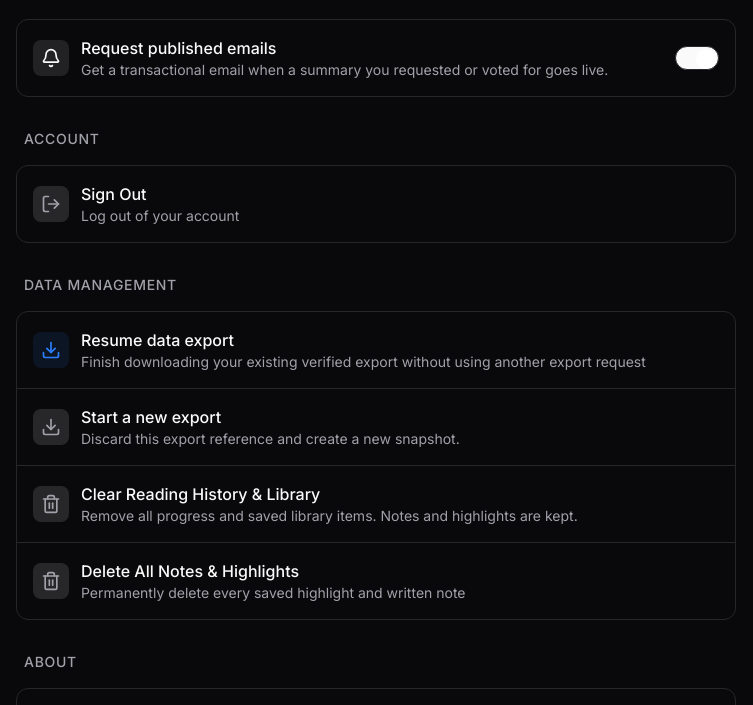
Test: settings data export delivery › offers a new export after an unavailable resume reference is rejected
(page scrolled)
Click the button that starts with "Resume data export" at (376, 350), box [17,312,735,388]
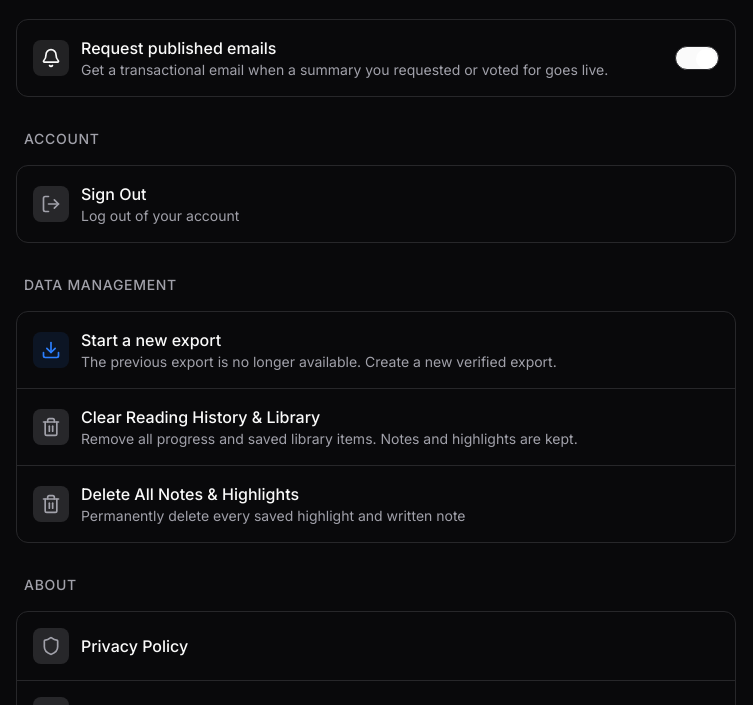
Expected: the text "Start a new export" is shown, [81,330,221,350]
